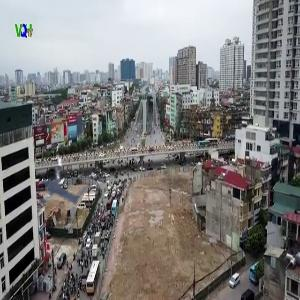drone: (20, 154, 94, 228)
